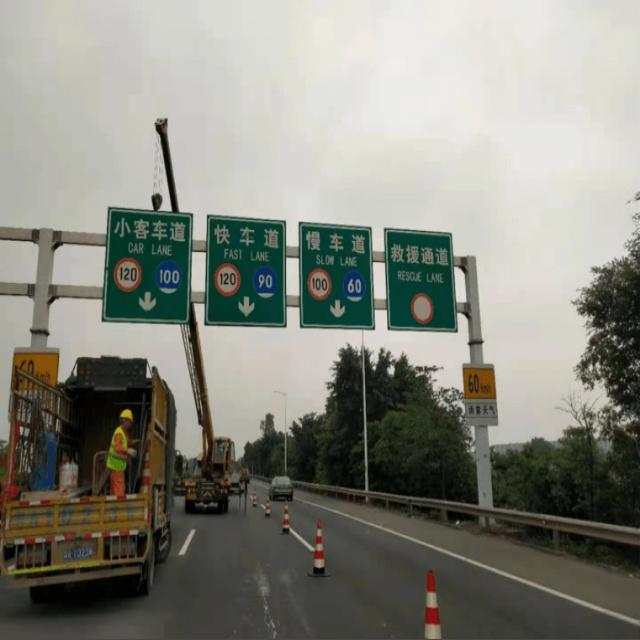speed limit 100: (307, 268, 332, 303), (155, 263, 183, 294)
speed limit 120: (114, 257, 143, 293), (215, 264, 241, 297)
speed limit 60: (341, 271, 365, 303)
speed limit 90: (252, 265, 278, 299)
